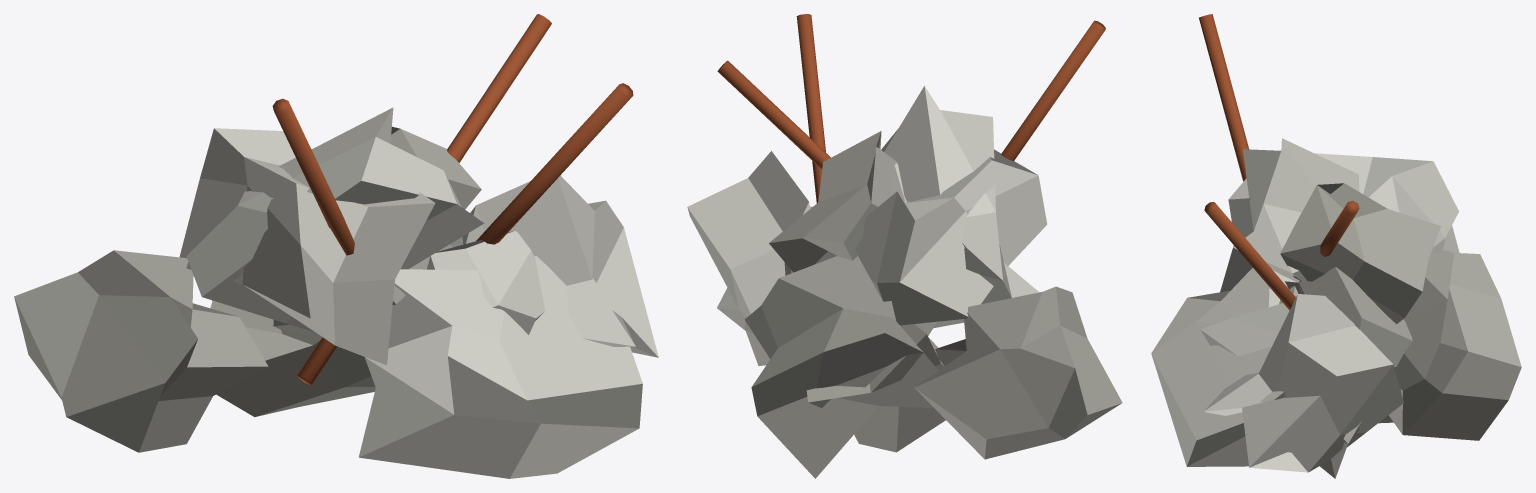
The model's file is rubble.glb.
3 views of the same model, side by side, from view 1: azimuth 30°, elevation 25°; view 2: azimuth 150°, elevation 25°; view 3: azimuth 270°, elevation 25° (orthographic). The views are drawn at different scales.
Visible parts, largest first — view 1: c2, c1, c0, c4, c6, c3, c8, rebar0, rebar2, rebar1, c5; view 2: c7, c1, c0, c4, c6, c5, c3, rebar1, rebar2, rebar0, c2; view 3: c6, c7, c2, c5, c4, c0, c3, c8, rebar1, rebar2, rebar0.
Part boxes in pixels (left/top/right/bottom): c2: left=358, top=256, right=642, bottom=478; c1: left=14, top=250, right=268, bottom=452; c0: left=179, top=128, right=435, bottom=365; c4: left=186, top=107, right=484, bottom=331; c6: left=462, top=175, right=658, bottom=357; c3: left=212, top=237, right=463, bottom=417; c8: left=427, top=231, right=545, bottom=334; rebar0: left=297, top=14, right=551, bottom=385; rebar2: left=476, top=83, right=633, bottom=244; rebar1: left=272, top=98, right=354, bottom=255; c5: left=311, top=126, right=481, bottom=209; c7: left=744, top=256, right=938, bottom=478; c1: left=914, top=286, right=1122, bottom=459; c0: left=855, top=149, right=1047, bottom=325; c4: left=881, top=86, right=1011, bottom=304; c6: left=687, top=151, right=810, bottom=330; c5: left=769, top=131, right=897, bottom=272; c3: left=784, top=262, right=945, bottom=452; rebar1: left=1001, top=20, right=1105, bottom=160; rebar2: left=796, top=14, right=825, bottom=203; rebar0: left=717, top=60, right=830, bottom=169; c2: left=933, top=266, right=1038, bottom=328; c6: left=1203, top=294, right=1403, bottom=472; c7: left=1388, top=250, right=1521, bottom=440; c2: left=1151, top=267, right=1296, bottom=466; c5: left=1280, top=183, right=1441, bottom=324; c4: left=1233, top=138, right=1359, bottom=283; c0: left=1220, top=153, right=1458, bottom=292; c3: left=1285, top=266, right=1412, bottom=423; c8: left=1200, top=286, right=1361, bottom=478; rebar1: left=1199, top=14, right=1248, bottom=181; rebar2: left=1204, top=202, right=1295, bottom=310; rebar0: left=1320, top=201, right=1359, bottom=256.
Bounding box in the file's own units: 1.23 × 1.01 × 0.9286.
